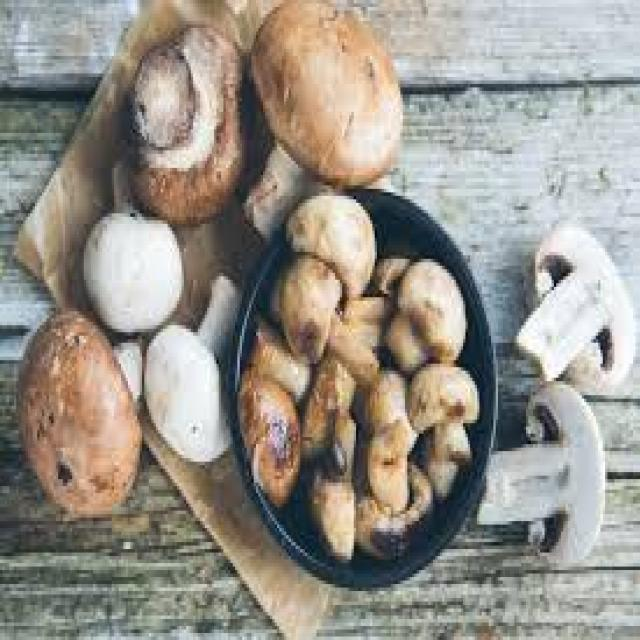organic waste: (239, 0, 402, 241), (121, 21, 256, 224), (14, 308, 147, 514), (475, 374, 605, 563), (516, 217, 630, 388), (142, 269, 242, 462), (79, 157, 184, 329), (277, 256, 377, 374), (284, 189, 377, 297), (382, 252, 463, 367), (302, 412, 358, 560), (235, 360, 298, 490), (405, 353, 475, 465), (354, 458, 431, 553), (298, 350, 347, 472), (361, 367, 412, 455), (247, 308, 305, 384), (368, 419, 417, 504), (408, 434, 458, 504), (338, 290, 393, 322)
